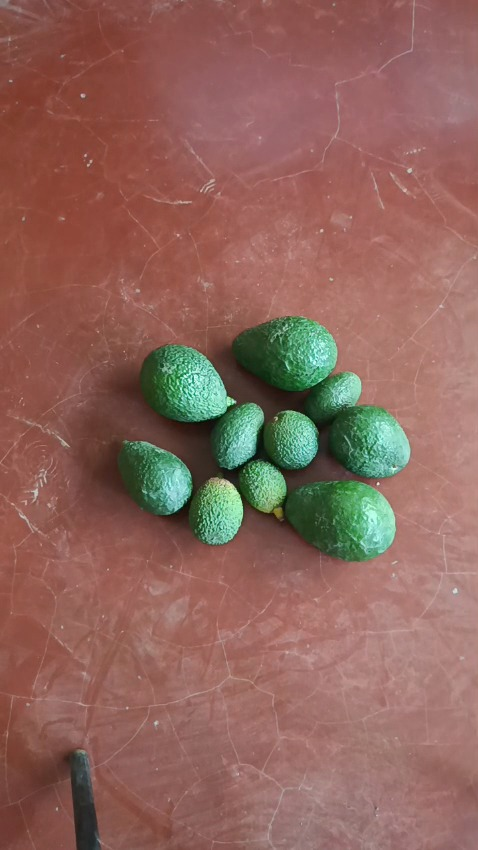Primera: (234, 314, 338, 392), (138, 344, 230, 423)
Segunda: (284, 478, 396, 559), (327, 405, 410, 477), (116, 438, 193, 515)
Tercera: (186, 475, 244, 545), (210, 400, 266, 470), (302, 371, 361, 427), (264, 409, 317, 465), (236, 459, 287, 515)
